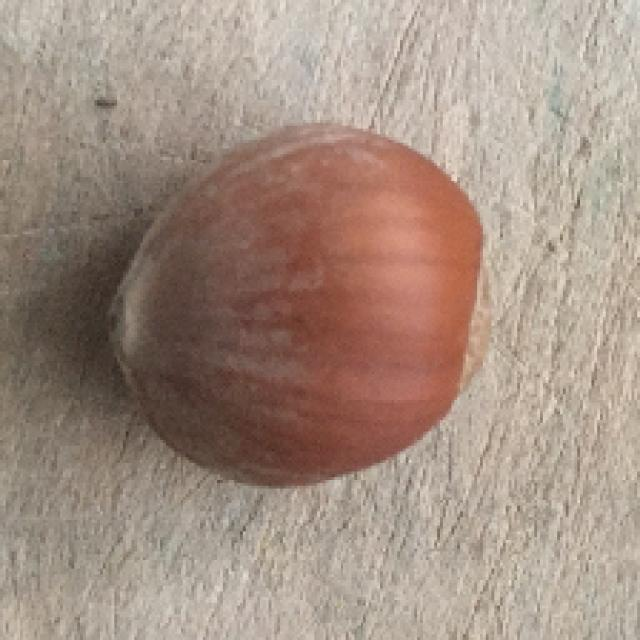QualityHazelnut: (110, 121, 495, 484)
